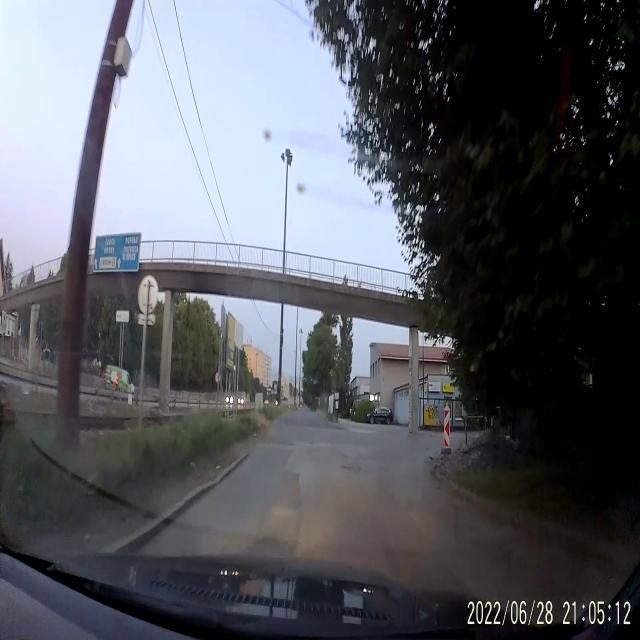Pothole: (338, 458, 353, 474)
